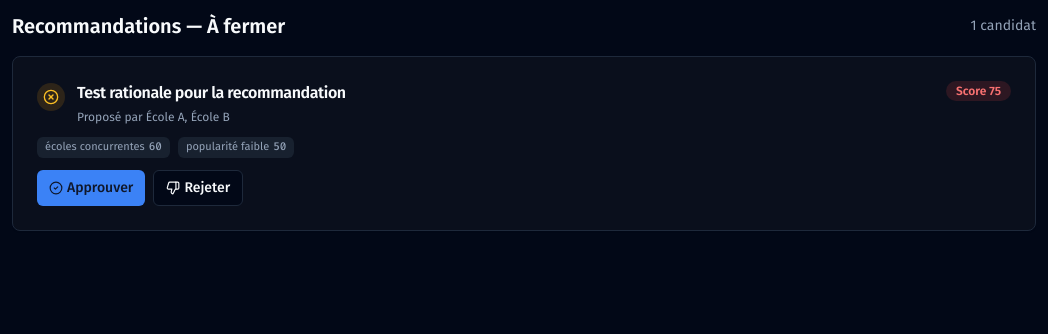
Scenario: GapRecommendationsList › shows error banner when reject fails
The width and height of the screenshot is (1048, 334).
Expected: the heading "Test rationale pour la recommandation" is shown, [77,81,346,105]
What coordinates should you click on to do the following:
click the button "Rejeter"
I would click on:
 (198, 188)
Its box is [153,170,243,206].
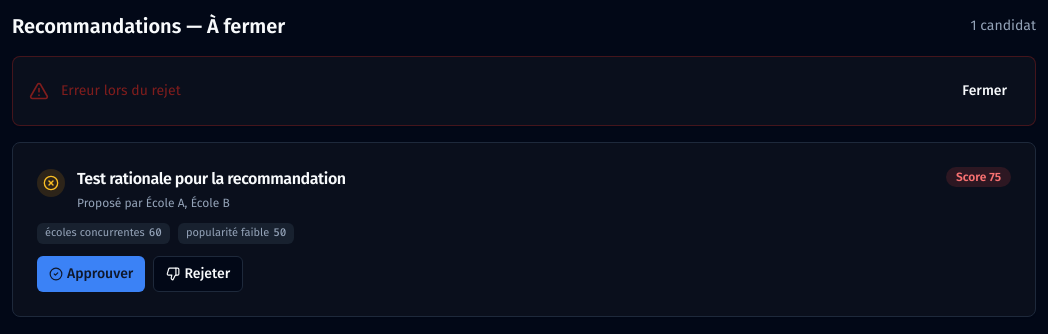
Now the text "Erreur lors du rejet" is shown, box [61,81,181,101]
